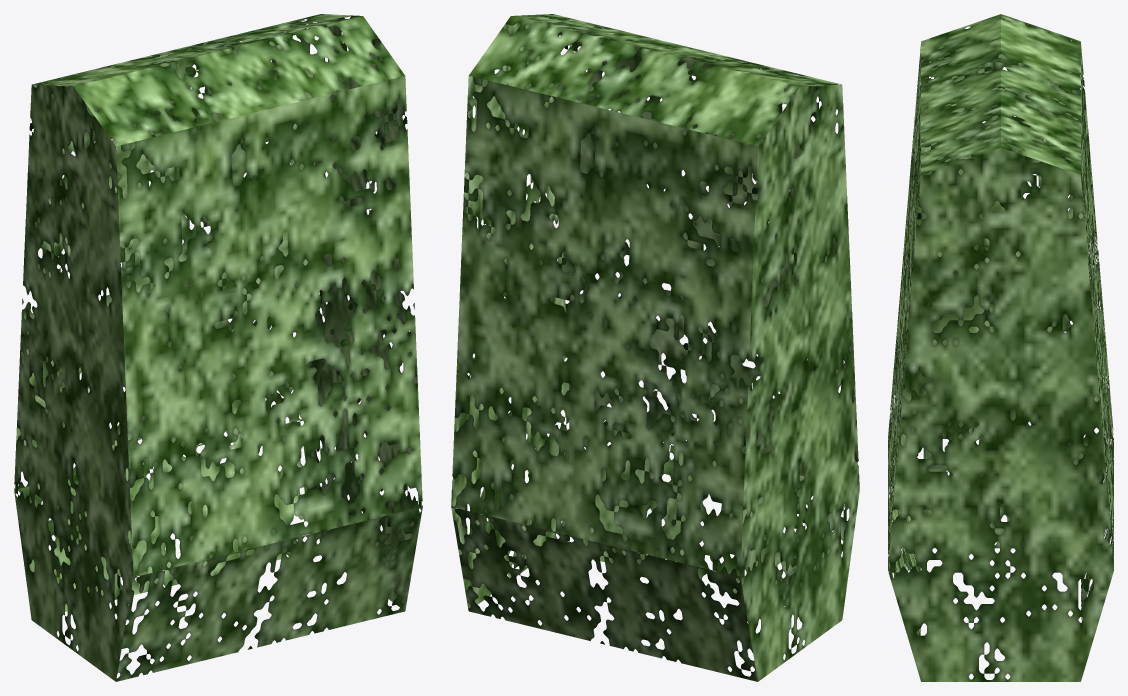
Rendered from bush_tall_half_summer.fbx.
3 renders of one model, left to right at view 1: azimuth 30°, elevation 25°; view 2: azimuth 150°, elevation 25°; view 3: azimuth 270°, elevation 25°, orthographic. The views are drawn at different scales.
Visible parts, largest first — view 1: bush_tall_half_summer; view 2: bush_tall_half_summer; view 3: bush_tall_half_summer.
Part boxes in pixels (x1=…): bush_tall_half_summer: x1=14, y1=14, x2=422, y2=681; bush_tall_half_summer: x1=451, y1=14, x2=859, y2=681; bush_tall_half_summer: x1=888, y1=14, x2=1113, y2=681.
Size of the model in its own units: 101 by 188 by 71.91.
Materials: 1 (1 with a texture image).
